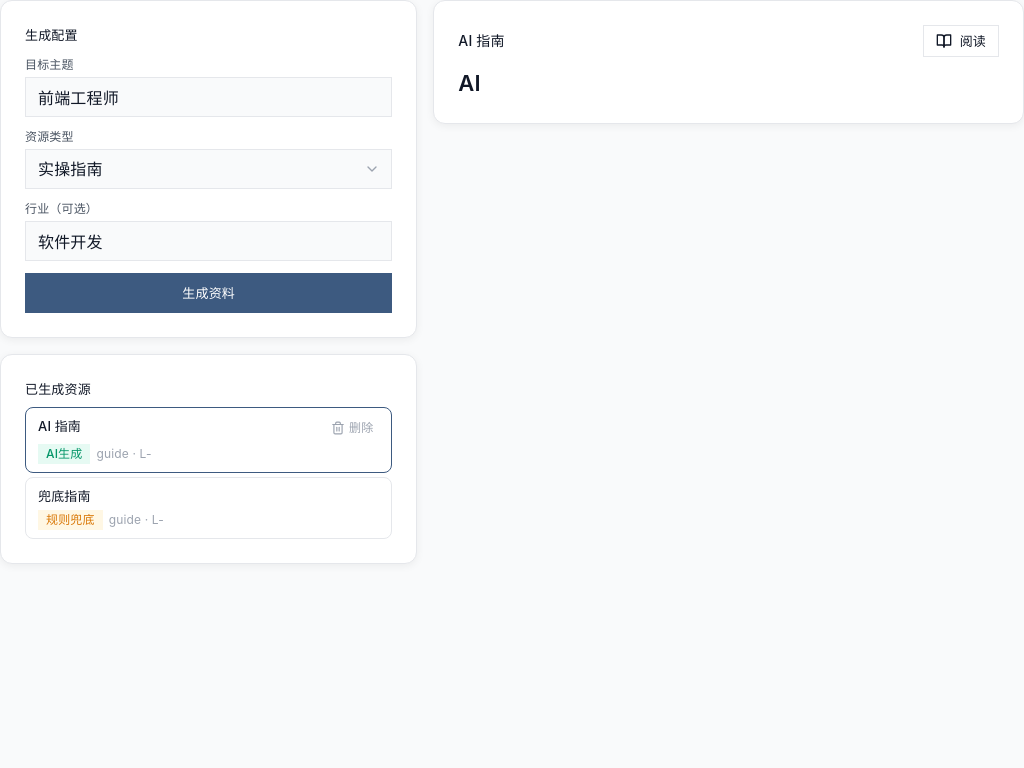
Scenario: EmbeddedResourceGeneration › 只为 AI 生成资源显示删除操作，并在确认后移除资源
Expected: the text "AI生成" is shown, [38,444,90,464]
Expected: the text "规则兜底" is shown, [38,510,103,530]
Click the button with aria-label "删除AI 指南": click(352, 428) [325,416,379,440]
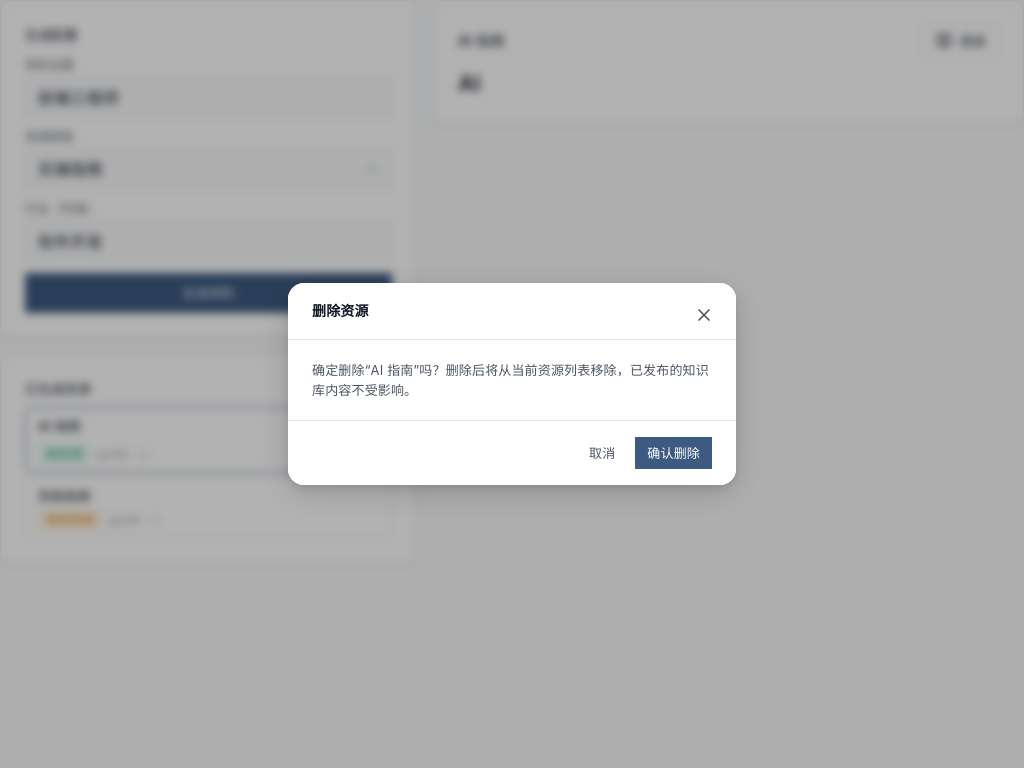
Click the button "确认删除": click(674, 453) [635,437,712,469]
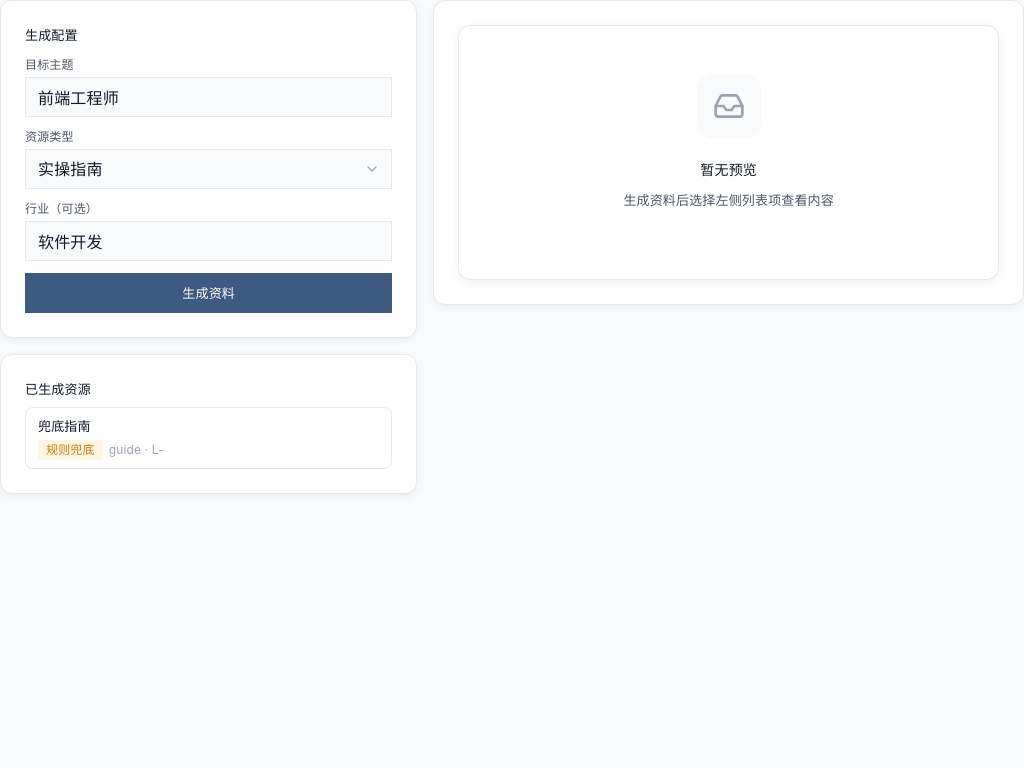
Result: the button "AI 指南" is gone
